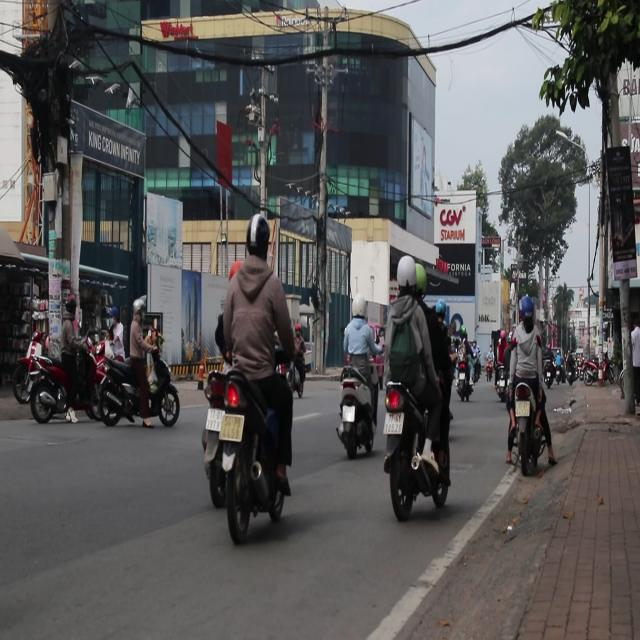motorbike: (197, 344, 291, 543), (379, 391, 456, 515), (91, 339, 182, 427), (46, 318, 100, 424), (509, 380, 553, 478), (13, 338, 68, 412), (336, 365, 380, 456)
